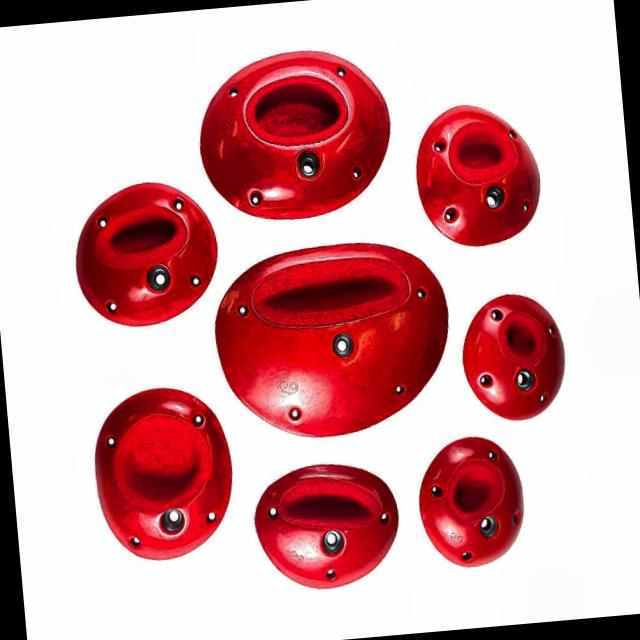Hold: (209, 232, 457, 443), (193, 41, 404, 230), (85, 386, 239, 568), (67, 176, 232, 336), (406, 92, 544, 252), (250, 458, 406, 596), (413, 432, 533, 574), (467, 286, 573, 434)
